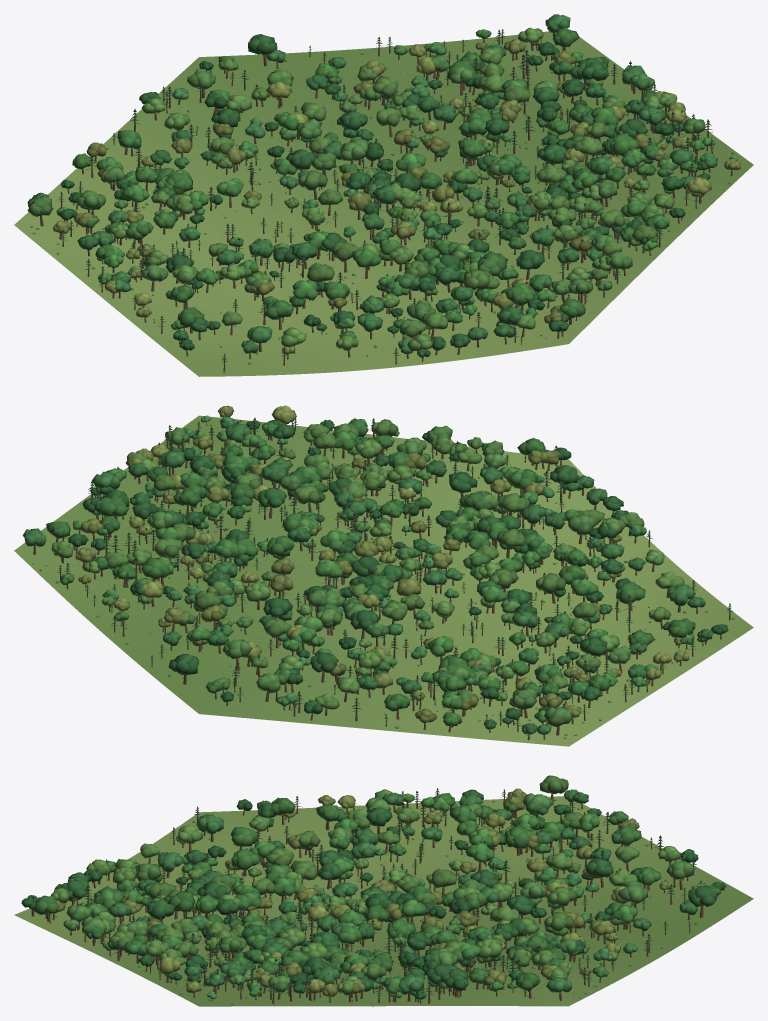
3 views of the same model, one above another, from view 1: azimuth 30°, elevation 25°; view 2: azimuth 150°, elevation 25°; view 3: azimuth 270°, elevation 25° (orthographic).
Visible parts, largest first — view 1: broadleaf_canopy, terrain, trunks, conifer_canopy; view 2: broadleaf_canopy, terrain, trunks, conifer_canopy; view 3: broadleaf_canopy, terrain, trunks, conifer_canopy, shrubs.
Boxes of the visible parts, x1=… form: broadleaf_canopy: x1=27, y1=14, x2=740, y2=357; terrain: x1=14, y1=31, x2=753, y2=376; trunks: x1=36, y1=30, x2=732, y2=370; conifer_canopy: x1=58, y1=29, x2=715, y2=363; broadleaf_canopy: x1=22, y1=405, x2=728, y2=734; terrain: x1=14, y1=415, x2=753, y2=746; trunks: x1=33, y1=419, x2=730, y2=740; conifer_canopy: x1=57, y1=417, x2=733, y2=726; broadleaf_canopy: x1=21, y1=775, x2=726, y2=999; terrain: x1=14, y1=796, x2=753, y2=1006; trunks: x1=31, y1=788, x2=718, y2=1003; conifer_canopy: x1=31, y1=788, x2=701, y2=995; shrubs: x1=54, y1=799, x2=697, y2=1005.
Size of the model in its own units: 4330 by 743 by 5000.
